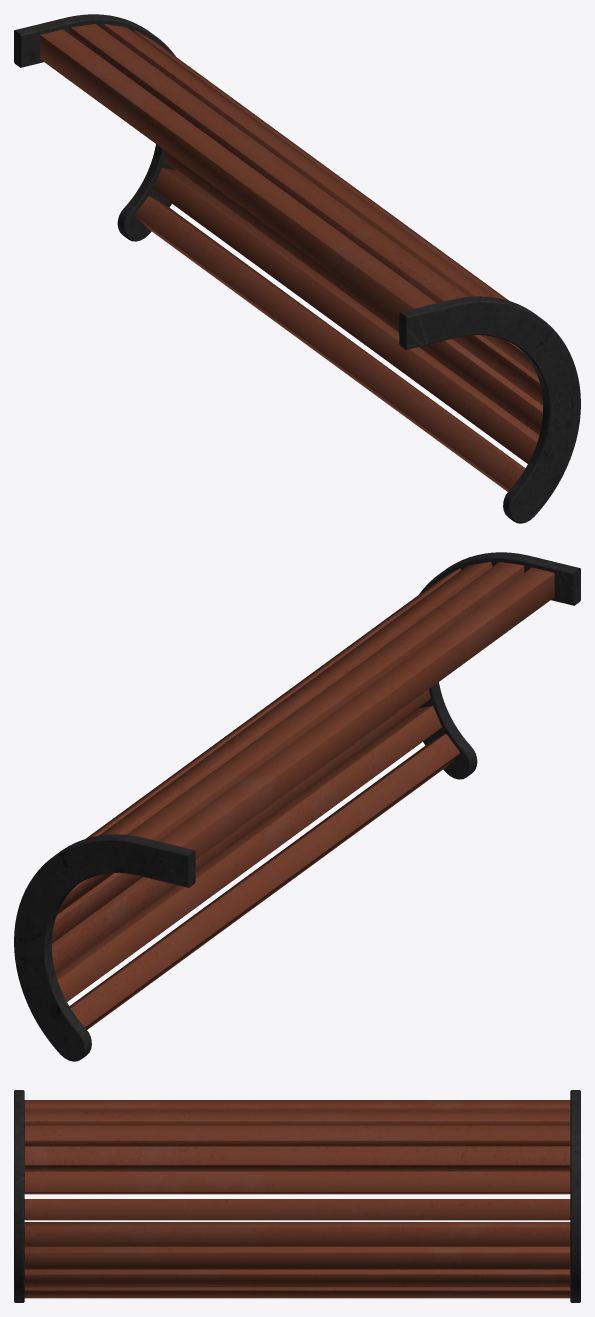
Rendered from cP_Bench18.dae.
The picture shows the model from 3 angles, top to bottom: view 1: azimuth 30°, elevation 25°; view 2: azimuth 150°, elevation 25°; view 3: azimuth 270°, elevation 25°; orthographic projection. The views are drawn at different scales.
Visible parts, largest first — view 1: cP_Bench18.001; view 2: cP_Bench18.001; view 3: cP_Bench18.001.
Part boxes in pixels (x1,y1,x2,y2): cP_Bench18.001: (14, 14, 580, 523); cP_Bench18.001: (14, 552, 580, 1061); cP_Bench18.001: (14, 1090, 580, 1302).
Size of the model in its own units: 0.5244 by 2.04 by 0.6739.
